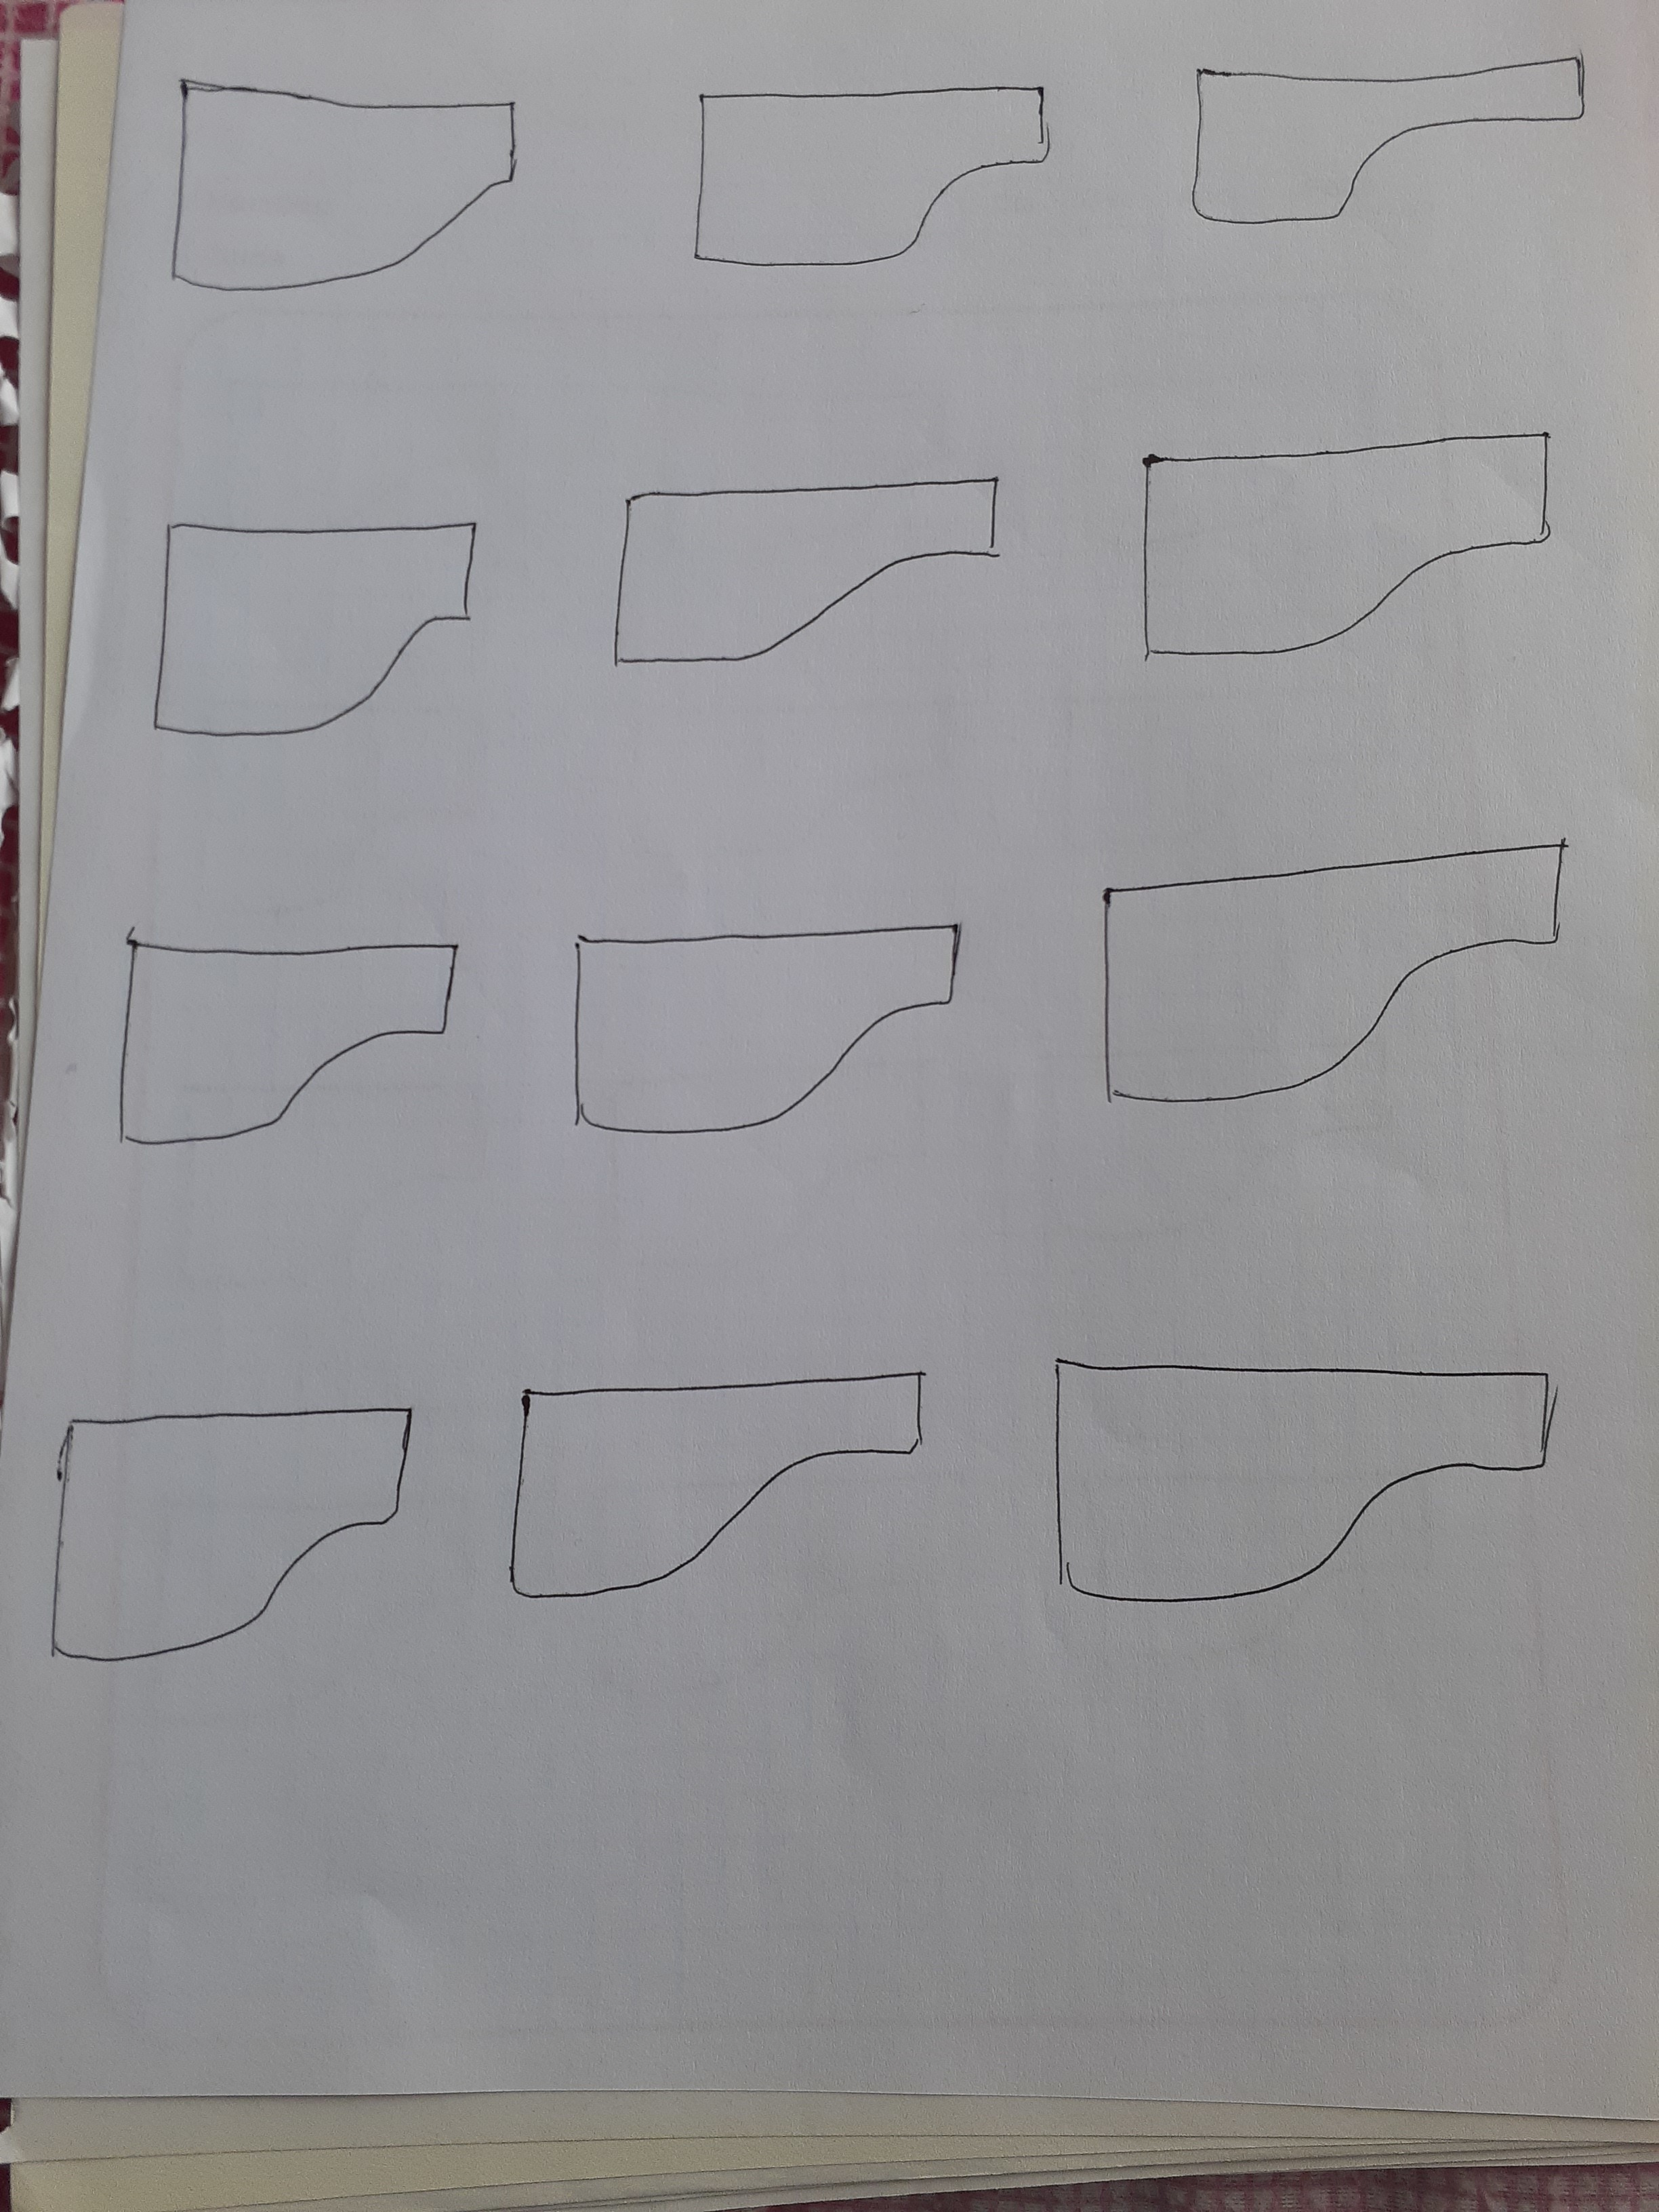print: (1011, 1310, 1577, 1618), (1075, 822, 1589, 1127), (479, 1343, 957, 1625), (1126, 415, 1582, 683), (594, 442, 1033, 712), (31, 1381, 423, 1679), (146, 469, 498, 787), (540, 899, 993, 1137), (85, 895, 476, 1167), (1180, 28, 1610, 256), (160, 49, 537, 303), (678, 63, 1091, 293)
